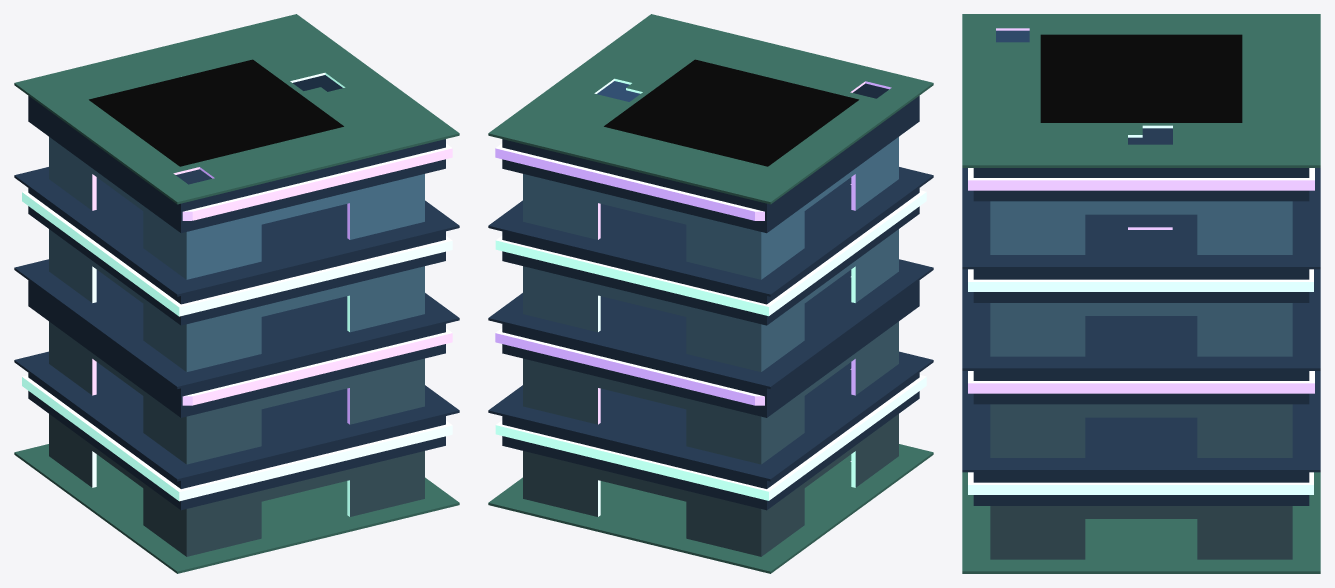
Rendered from StudzDragonMoonRoof_15.gltf.
3 views of the same model, side by side, from view 1: azimuth 30°, elevation 25°; view 2: azimuth 150°, elevation 25°; view 3: azimuth 270°, elevation 25° (orthographic). The views are drawn at different scales.
Parts seen in each view (by area): view 1: Neon Outline.011, MoonRoof Top; view 2: Neon Outline.011, MoonRoof Top; view 3: Neon Outline.011, MoonRoof Top.
Part boxes in pixels (x1,y1,x2,y2): Neon Outline.011: [14, 14, 459, 573]; MoonRoof Top: [89, 59, 343, 166]; Neon Outline.011: [488, 14, 933, 573]; MoonRoof Top: [604, 59, 858, 166]; Neon Outline.011: [962, 14, 1320, 573]; MoonRoof Top: [1040, 34, 1242, 122].
Size of what is drawn, in the model's own units: 32 by 40.25 by 32.
4 materials, 1 textured.
